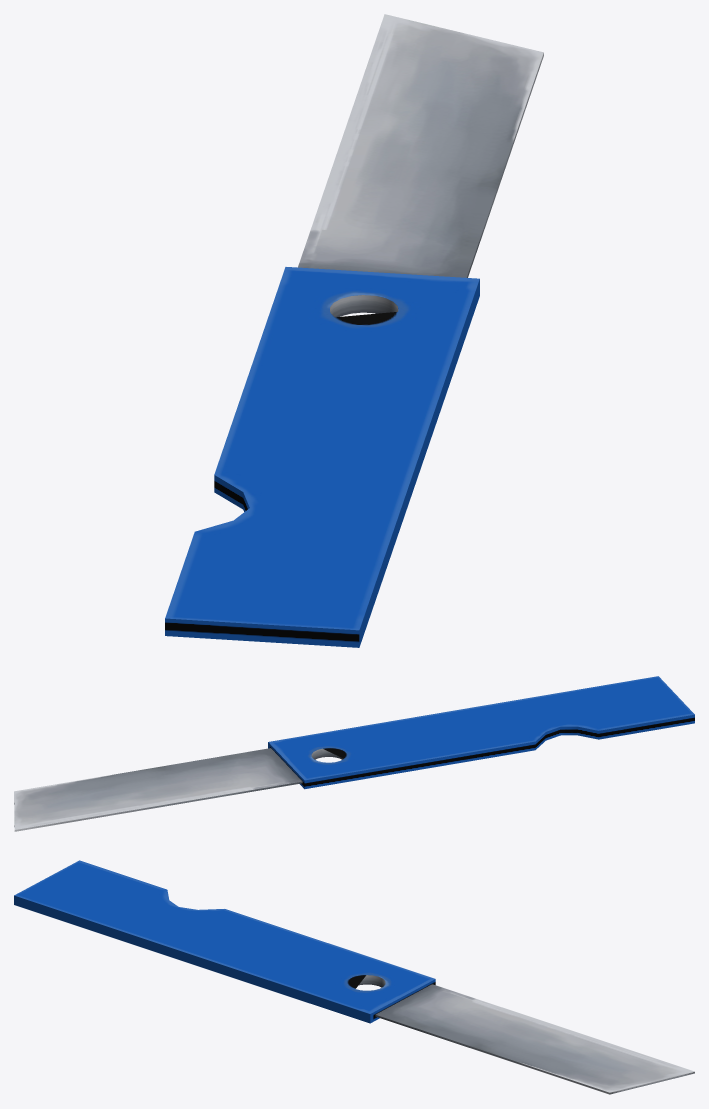
The model's file is chemical_knife.FBX.
3 renders of one model, top to bottom at view 1: azimuth 30°, elevation 25°; view 2: azimuth 150°, elevation 25°; view 3: azimuth 270°, elevation 25°, orthographic. The views are drawn at different scales.
Visible parts, largest first — view 1: chemical_knife; view 2: chemical_knife; view 3: chemical_knife.
Boxes of the visible parts, box(x1,y1,x2,y2) form: chemical_knife: box(165, 14, 543, 647); chemical_knife: box(14, 676, 694, 831); chemical_knife: box(14, 860, 694, 1094).
Bounding box in the file's own units: 12.02 × 0.2315 × 15.11.
1 material, 1 textured.
